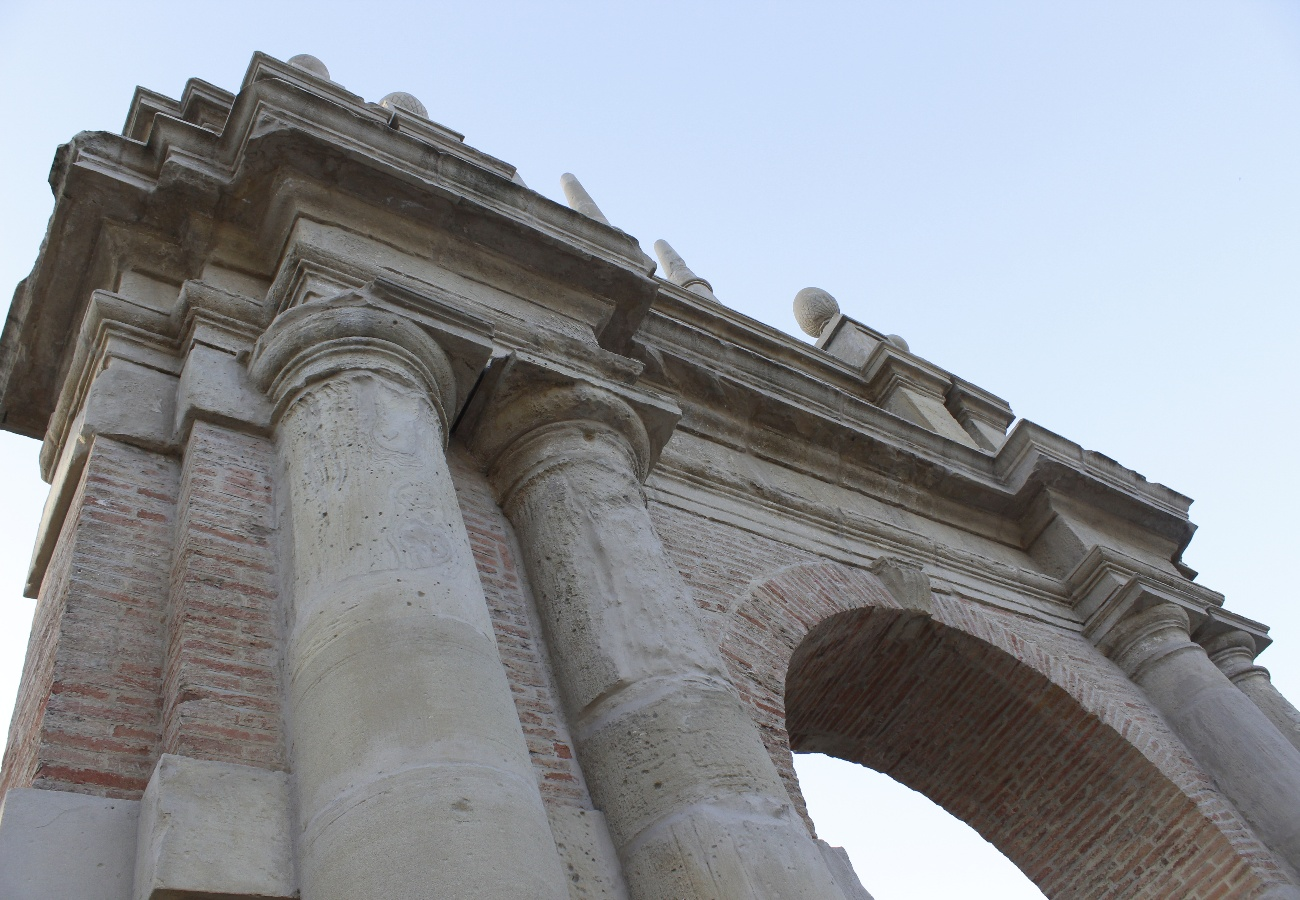Arco di Trionfo: (1, 49, 1300, 900)
